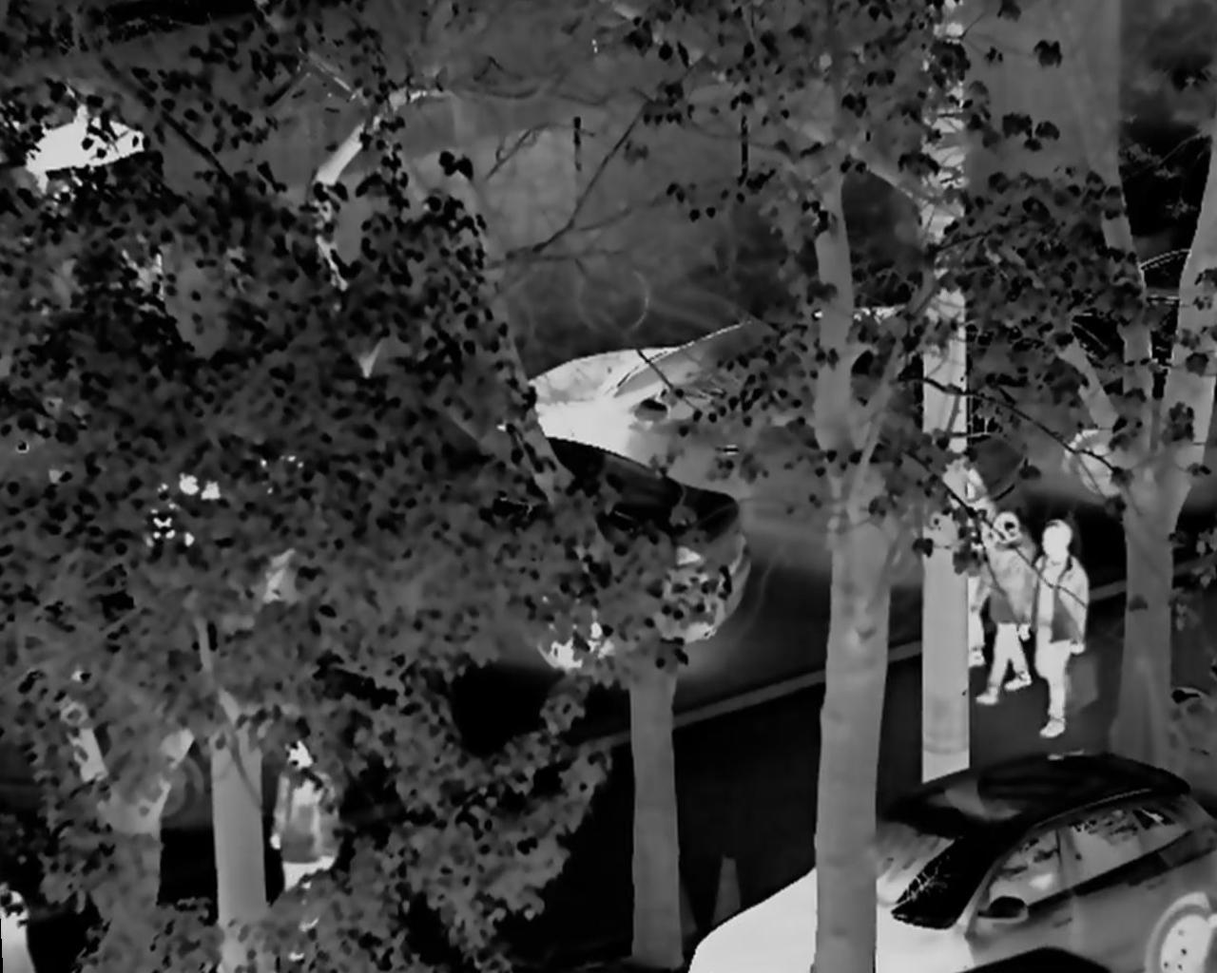person: (267, 732, 350, 936), (924, 474, 996, 678), (1031, 521, 1086, 744), (980, 504, 1036, 708)
